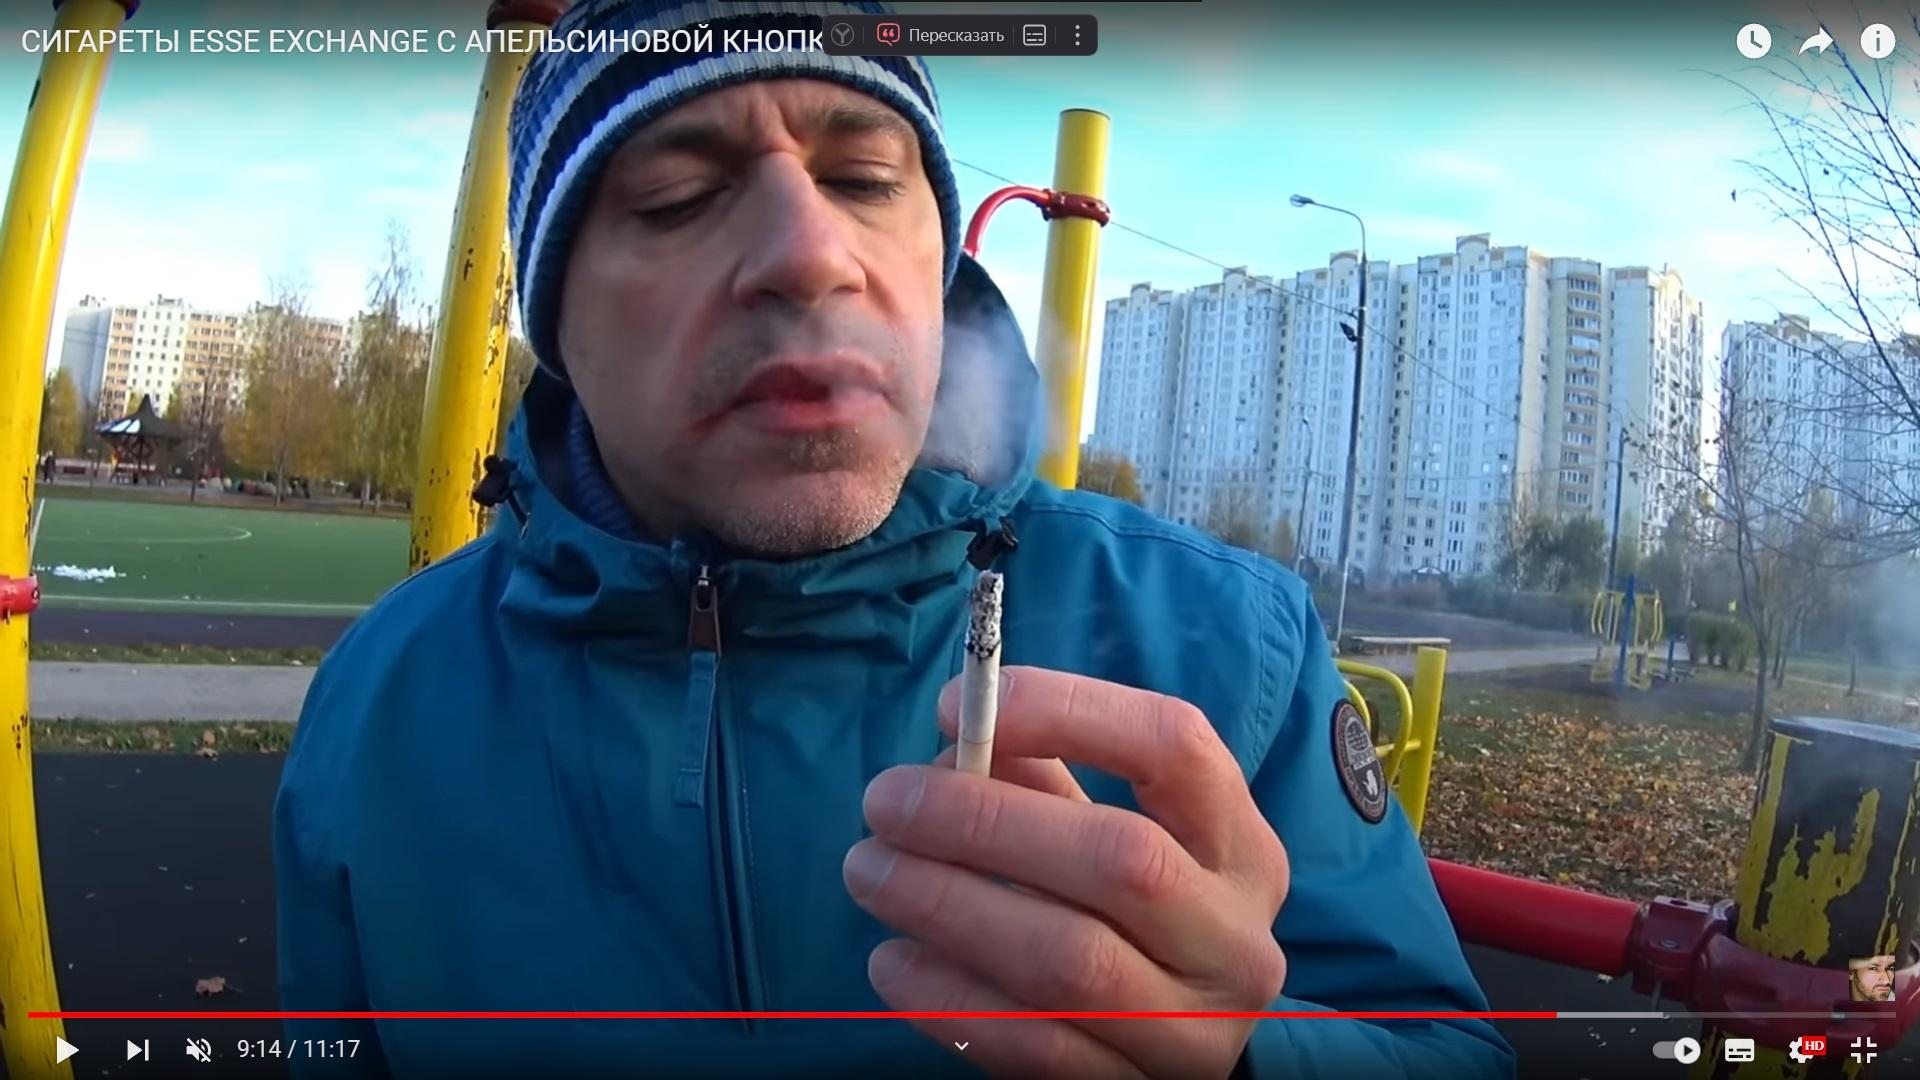cigarette: (956, 570, 1005, 774)
